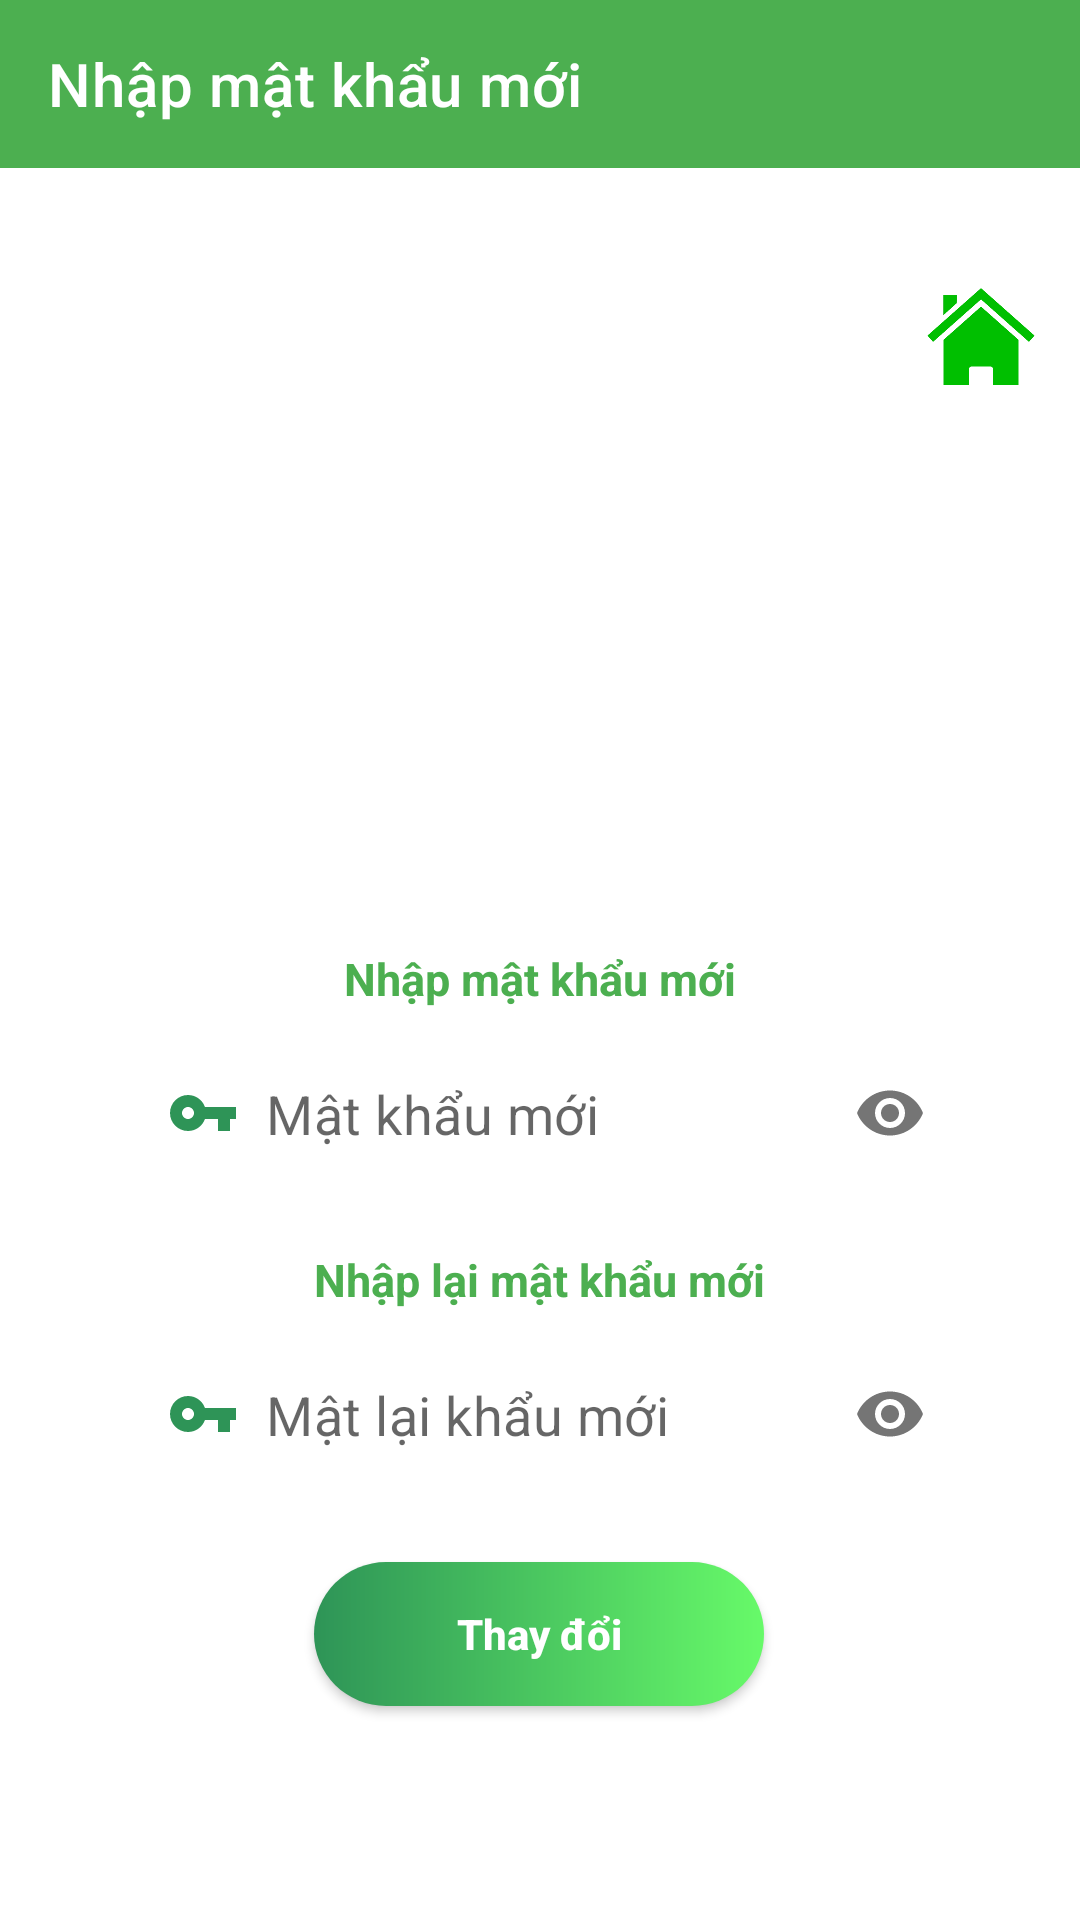

Icons on this 1080px×1920px Android screen, each with its box as {"x1": x1, "y1": y1, "x2": x2, "y2": y2}:
home: {"x1": 927, "y1": 288, "x2": 1035, "y2": 385}
